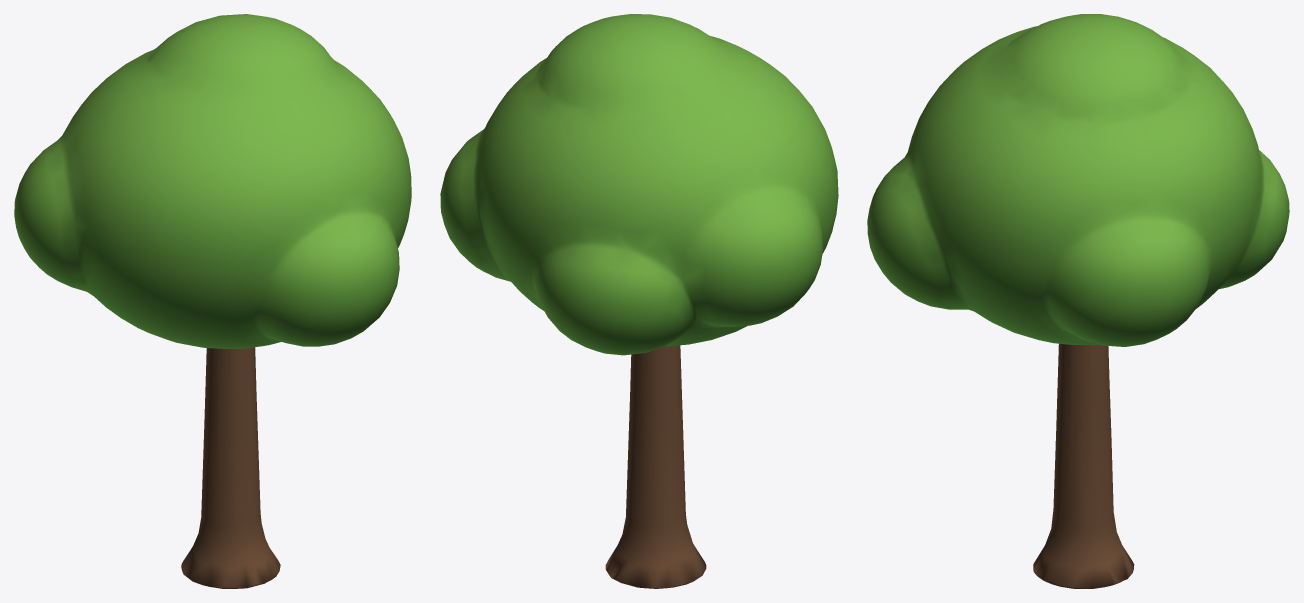
File: round_deciduous_tree.glb
The picture shows the model from 3 angles, left to right: view 1: azimuth 30°, elevation 25°; view 2: azimuth 150°, elevation 25°; view 3: azimuth 270°, elevation 25°; orthographic projection. The views are drawn at different scales.
Parts seen in each view (by area): view 1: round_deciduous_tree_leaves, round_deciduous_tree_trunk; view 2: round_deciduous_tree_leaves, round_deciduous_tree_trunk; view 3: round_deciduous_tree_leaves, round_deciduous_tree_trunk.
Part boxes in pixels (left/top/right/bottom): round_deciduous_tree_leaves: left=14, top=14, right=411, bottom=348; round_deciduous_tree_trunk: left=181, top=347, right=280, bottom=588; round_deciduous_tree_leaves: left=440, top=14, right=838, bottom=355; round_deciduous_tree_trunk: left=605, top=345, right=706, bottom=588; round_deciduous_tree_leaves: left=867, top=14, right=1289, bottom=346; round_deciduous_tree_trunk: left=1033, top=343, right=1134, bottom=588.
Size of the model in its own units: 2.87 by 4.05 by 2.83.
1 material, 1 textured.
